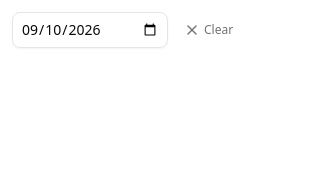
Test: promise date editors › keeps a Shopify date as a draft until Save is pressed
The width and height of the screenshot is (332, 172).
Later steps or results of the test are not shown.
Type "2026-09-18" into the date field named "Customer promise date in Shopify".
click(90, 30); type("2026-09-18")  # box x1=12 y1=12 x2=168 y2=48
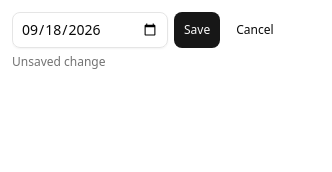
Result: the text "Unsaved change" is shown at x1=12 y1=53 x2=106 y2=70
